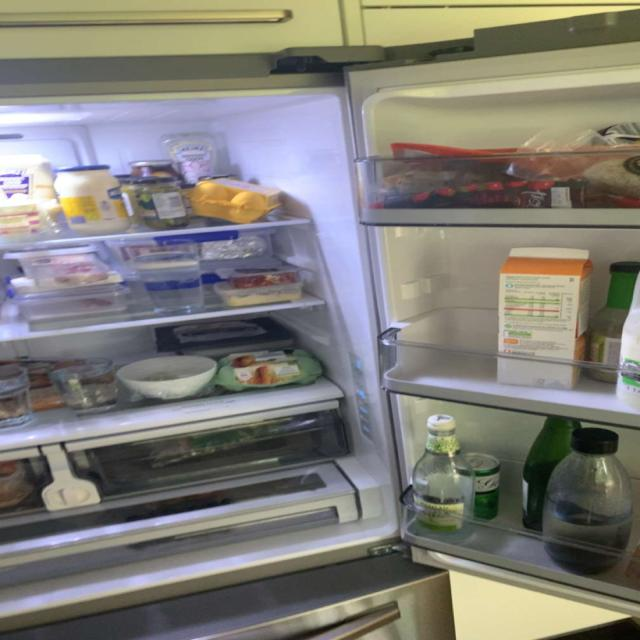Huevos: (219, 347, 323, 392), (189, 179, 284, 223)
Queso: (11, 270, 125, 294)
Yogur: (0, 203, 44, 240)
mayonaise: (53, 164, 132, 237), (0, 154, 53, 208)
olives: (137, 177, 188, 230)
